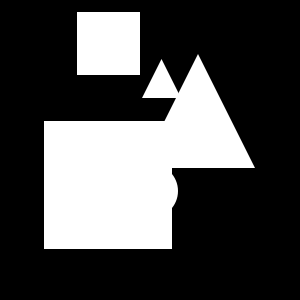circle: (44, 121, 172, 249), (77, 12, 140, 75)
rectangle: (124, 164, 178, 218)
triangle: (141, 54, 255, 168), (142, 59, 181, 98)
